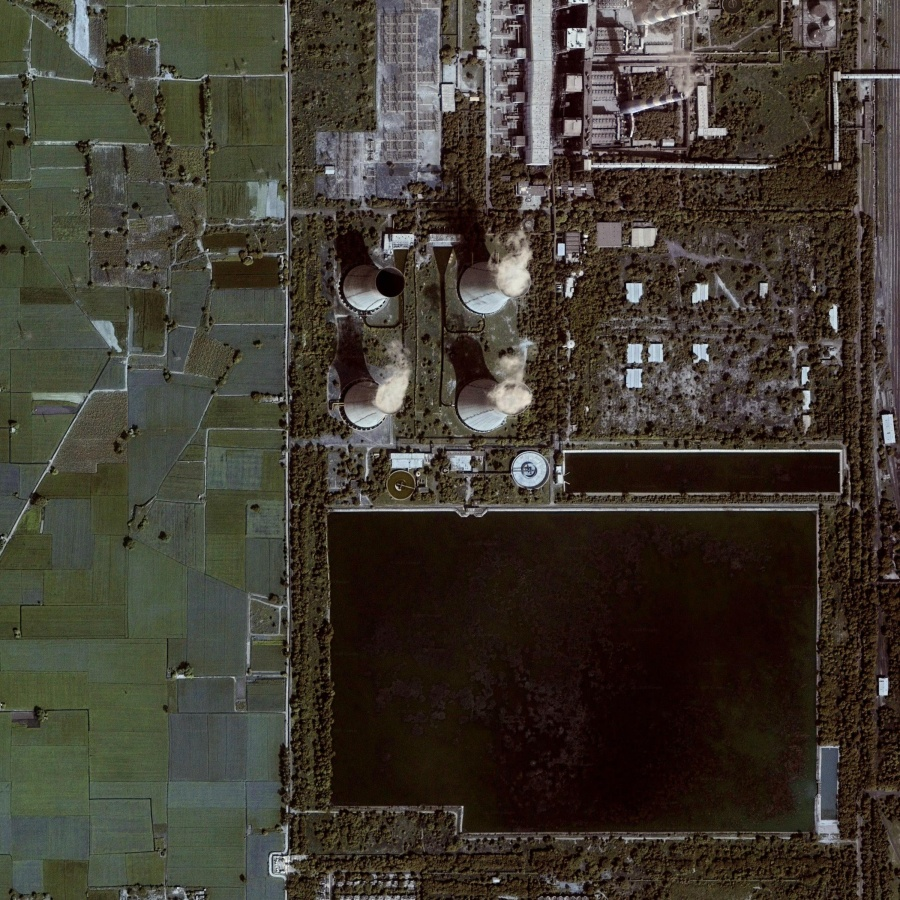PowerPlant: (303, 489, 856, 861)
